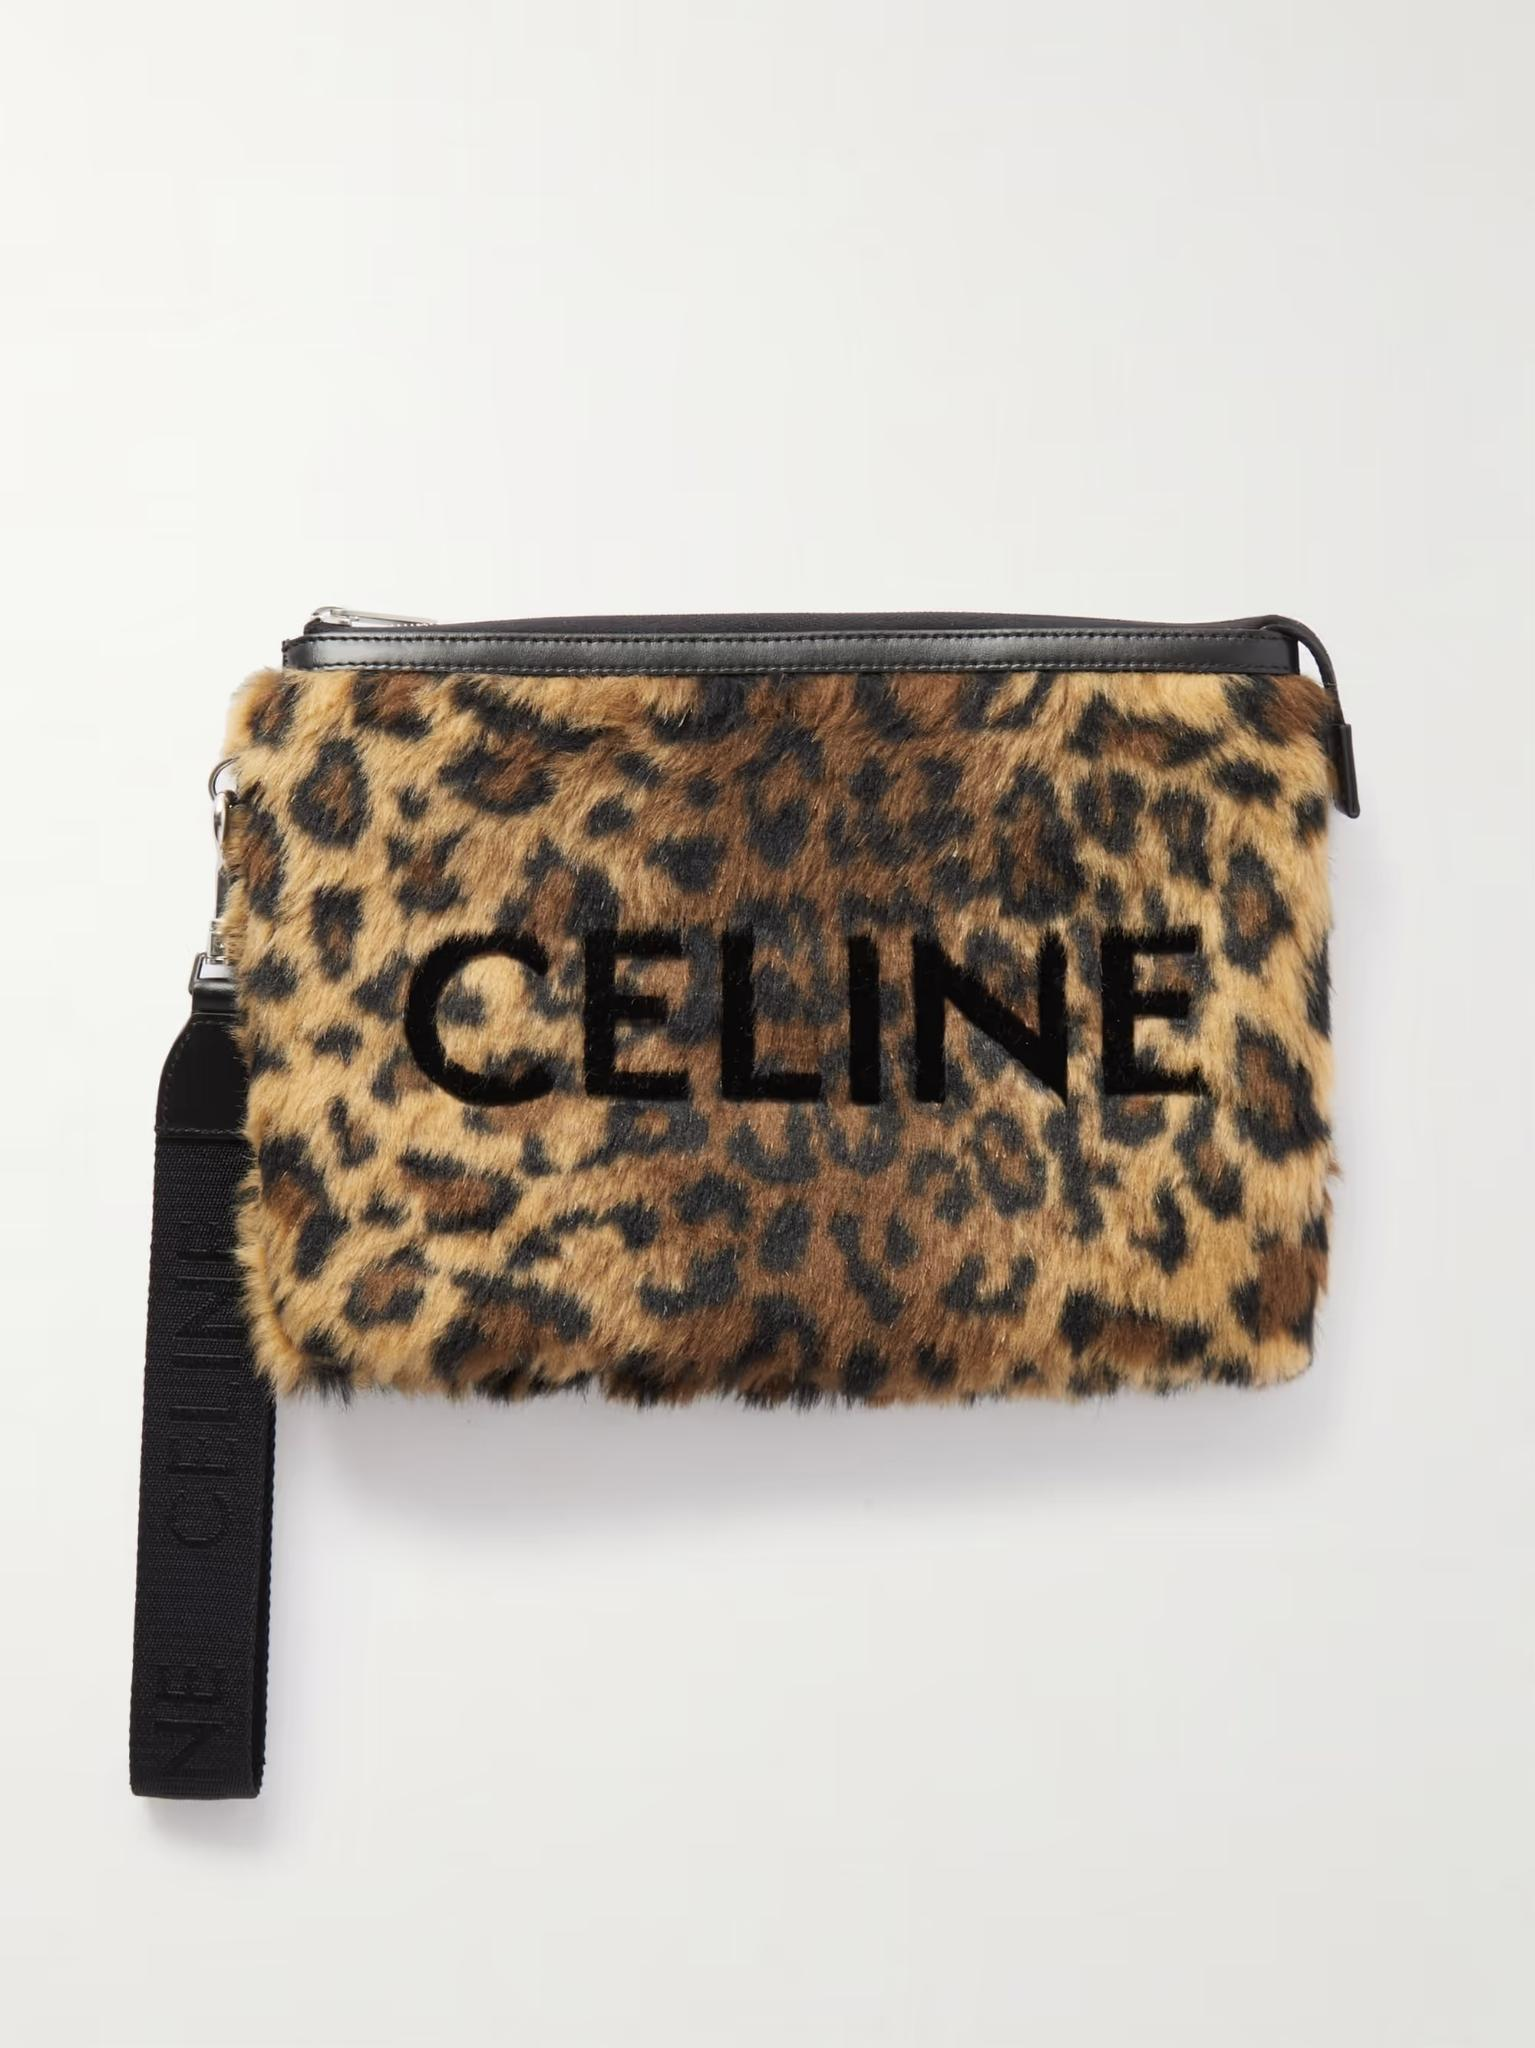CELINE: (403, 926, 1203, 1105)
